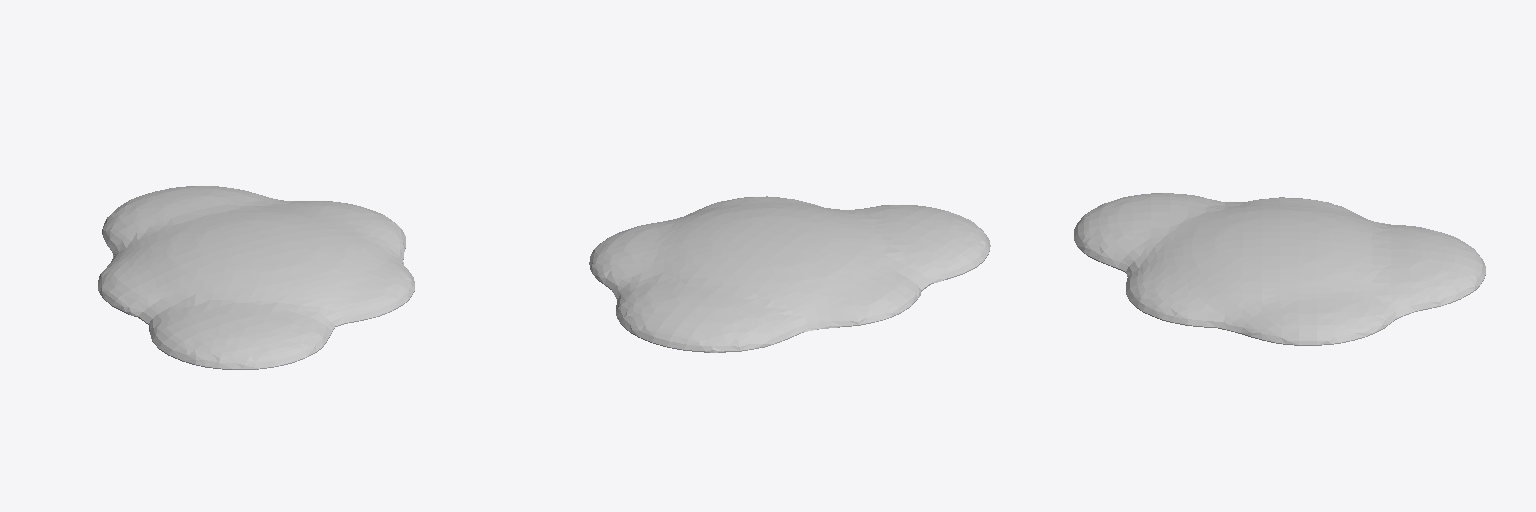
Rendered from DEADLEAV.obj.
3 views of the same model, side by side, from view 1: azimuth 30°, elevation 25°; view 2: azimuth 150°, elevation 25°; view 3: azimuth 270°, elevation 25° (orthographic).
Visible parts, largest first — view 1: Sphere.005; view 2: Sphere.005; view 3: Sphere.005.
Boxes of the visible parts, box(x1,y1,x2,y2) form: Sphere.005: box(98, 186, 414, 369); Sphere.005: box(589, 196, 990, 352); Sphere.005: box(1074, 193, 1485, 345).
Size of the model in its own units: 10.41 by 1.01 by 12.21.